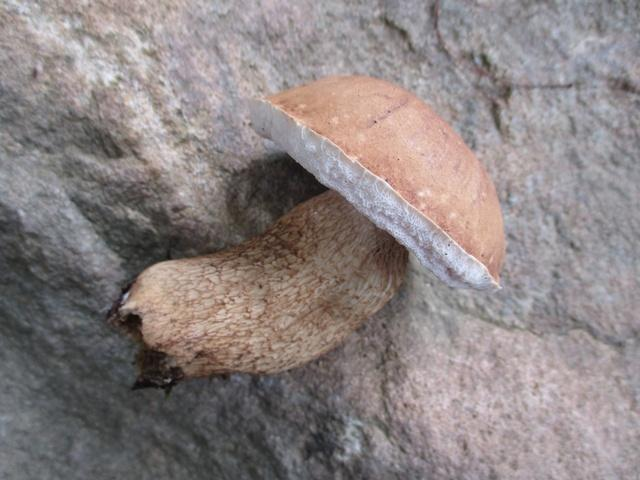poisonous_mushroom: (106, 72, 507, 390)
